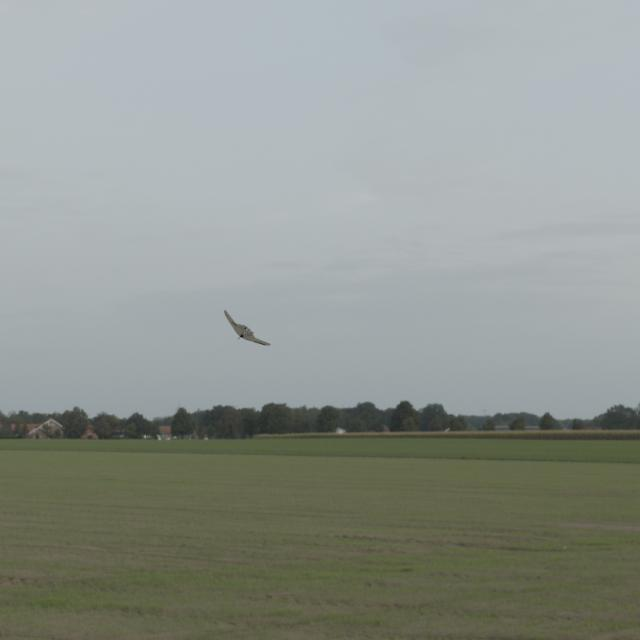Airaplan: (224, 309, 271, 345)
